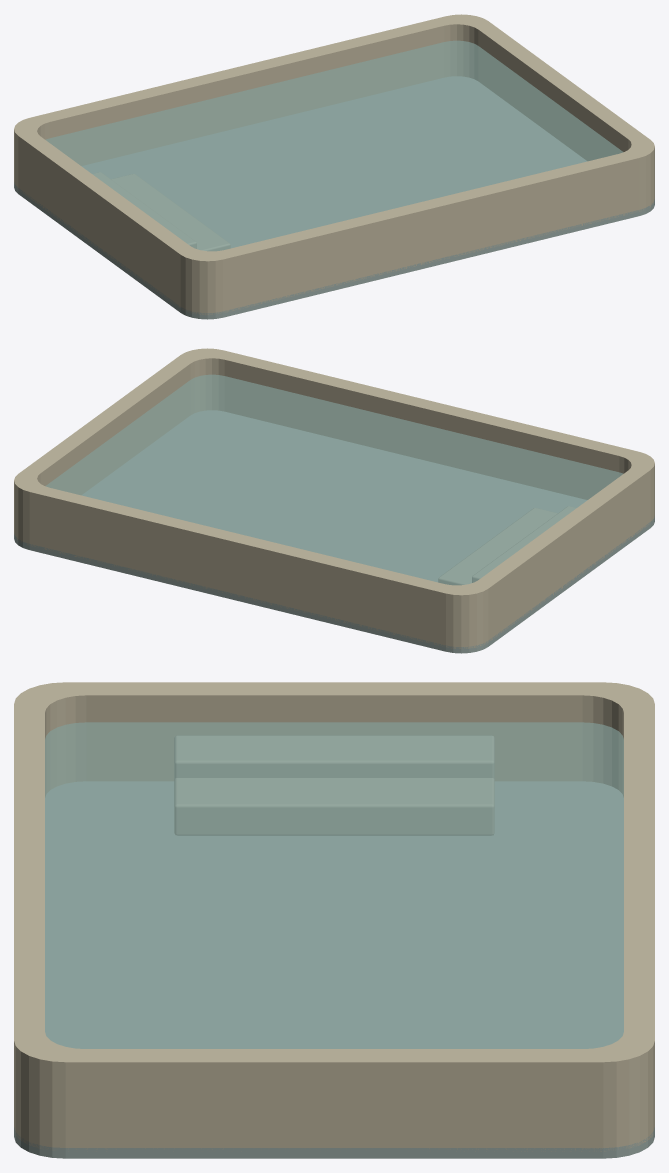
Rendered from pool.glb.
3 views of the same model, one above another, from view 1: azimuth 30°, elevation 25°; view 2: azimuth 150°, elevation 25°; view 3: azimuth 270°, elevation 25° (orthographic). The views are drawn at different scales.
Visible parts, largest first — view 1: closed-pool-walls-and-coping, contained-pool-water, grounded-pool-floor, submerged-entry-step-1, submerged-entry-step-0; view 2: closed-pool-walls-and-coping, contained-pool-water, grounded-pool-floor, submerged-entry-step-1, submerged-entry-step-0; view 3: contained-pool-water, grounded-pool-floor, closed-pool-walls-and-coping, submerged-entry-step-1, submerged-entry-step-0.
Boxes of the visible parts, box(x1,y1,x2,y2) form: closed-pool-walls-and-coping: box(14, 14, 654, 315); contained-pool-water: box(46, 40, 622, 251); grounded-pool-floor: box(14, 76, 654, 319); submerged-entry-step-1: box(111, 174, 230, 250); submerged-entry-step-0: box(93, 172, 196, 248); closed-pool-walls-and-coping: box(14, 348, 654, 648); contained-pool-water: box(46, 374, 622, 585); grounded-pool-floor: box(14, 410, 654, 653); submerged-entry-step-1: box(438, 508, 557, 584); submerged-entry-step-0: box(472, 506, 575, 582); contained-pool-water: box(45, 722, 623, 1048); grounded-pool-floor: box(14, 781, 654, 1158); closed-pool-walls-and-coping: box(14, 682, 654, 1151); submerged-entry-step-1: box(174, 778, 494, 835); submerged-entry-step-0: box(174, 735, 494, 778).
Size of the model in its own units: 3.48 by 0.4125 by 2.48.
